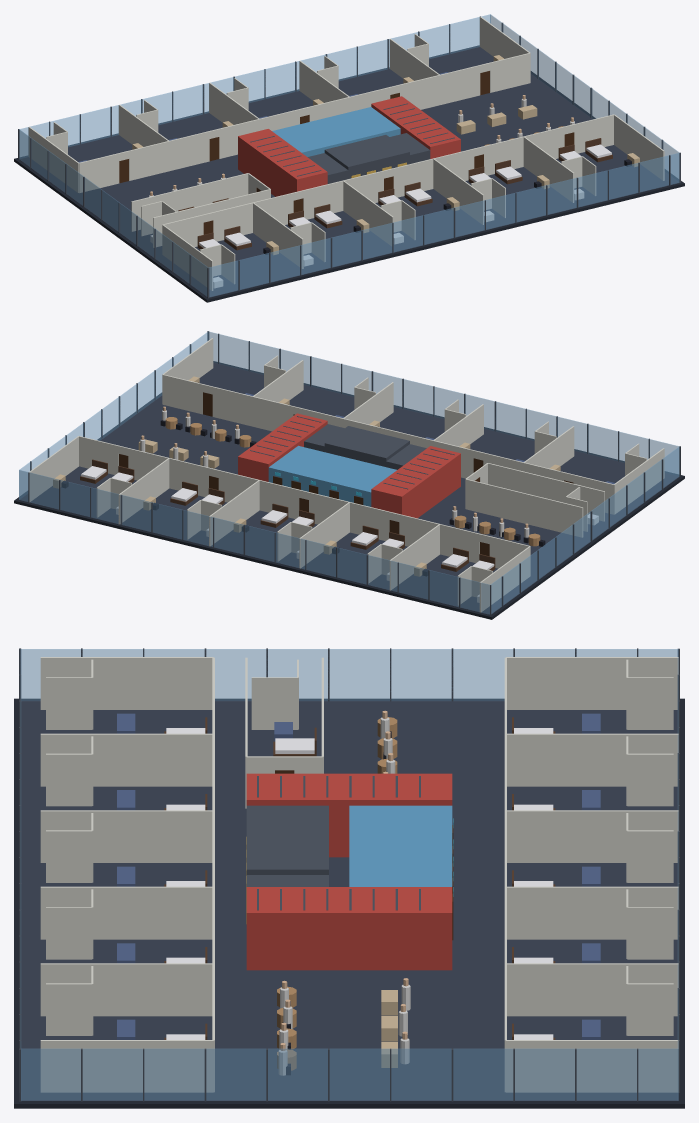
3 views of the same model, one above another, from view 1: azimuth 30°, elevation 25°; view 2: azimuth 150°, elevation 25°; view 3: azimuth 270°, elevation 25° (orthographic). The views are drawn at different scales.
Visible parts, largest first — view 1: L16_wall, L16_glass, L16_floor_carpet, L16_core, L16_stair, L16_slab, L16_wash, L16_bed_frame, L16_bed, L16_desk, L16_door_closed, L16_bath; view 2: L16_wall, L16_glass, L16_floor_carpet, L16_core, L16_stair, L16_slab, L16_wash, L16_bed_frame, L16_bed, L16_desk, L16_door_closed, L16_table (+2 smaller); view 3: L16_wall, L16_floor_carpet, L16_glass, L16_stair, L16_core, L16_slab, L16_wash, L16_sofa, L16_bed, L16_role_housekeeper, L16_table, L16_desk (+1 smaller).
Boxes of the visible parts, x1,y1,x2,y2 form: L16_wall: [28, 17, 664, 290]; L16_glass: [19, 14, 679, 296]; L16_floor_carpet: [19, 46, 679, 297]; L16_core: [18, 16, 680, 298]; L16_stair: [238, 96, 460, 196]; L16_slab: [14, 45, 684, 302]; L16_wash: [272, 107, 400, 156]; L16_bed_frame: [178, 138, 612, 250]; L16_bed: [199, 144, 611, 248]; L16_desk: [132, 55, 639, 255]; L16_door_closed: [119, 71, 574, 234]; L16_bath: [150, 188, 584, 288]; L16_wall: [28, 338, 664, 612]; L16_glass: [19, 331, 679, 614]; L16_floor_carpet: [19, 362, 679, 614]; L16_core: [28, 331, 680, 615]; L16_stair: [238, 413, 460, 518]; L16_slab: [14, 361, 684, 619]; L16_wash: [268, 445, 396, 506]; L16_bed_frame: [80, 459, 495, 571]; L16_bed: [81, 466, 494, 569]; L16_desk: [53, 376, 560, 576]; L16_door_closed: [119, 392, 573, 556]; L16_table: [165, 417, 540, 546]; L16_wall: [40, 657, 678, 1092]; L16_floor_carpet: [21, 700, 678, 1101]; L16_glass: [20, 649, 678, 1100]; L16_stair: [246, 773, 452, 970]; L16_core: [19, 648, 679, 1101]; L16_slab: [14, 698, 684, 1108]; L16_wash: [349, 805, 452, 886]; L16_sofa: [117, 713, 600, 1039]; L16_bed: [166, 728, 553, 1039]; L16_role_housekeeper: [278, 717, 410, 1075]; L16_table: [277, 717, 397, 1070]; L16_desk: [381, 990, 397, 1067].
Size of the model in its own units: 46.6 by 3.37 by 32.6.
